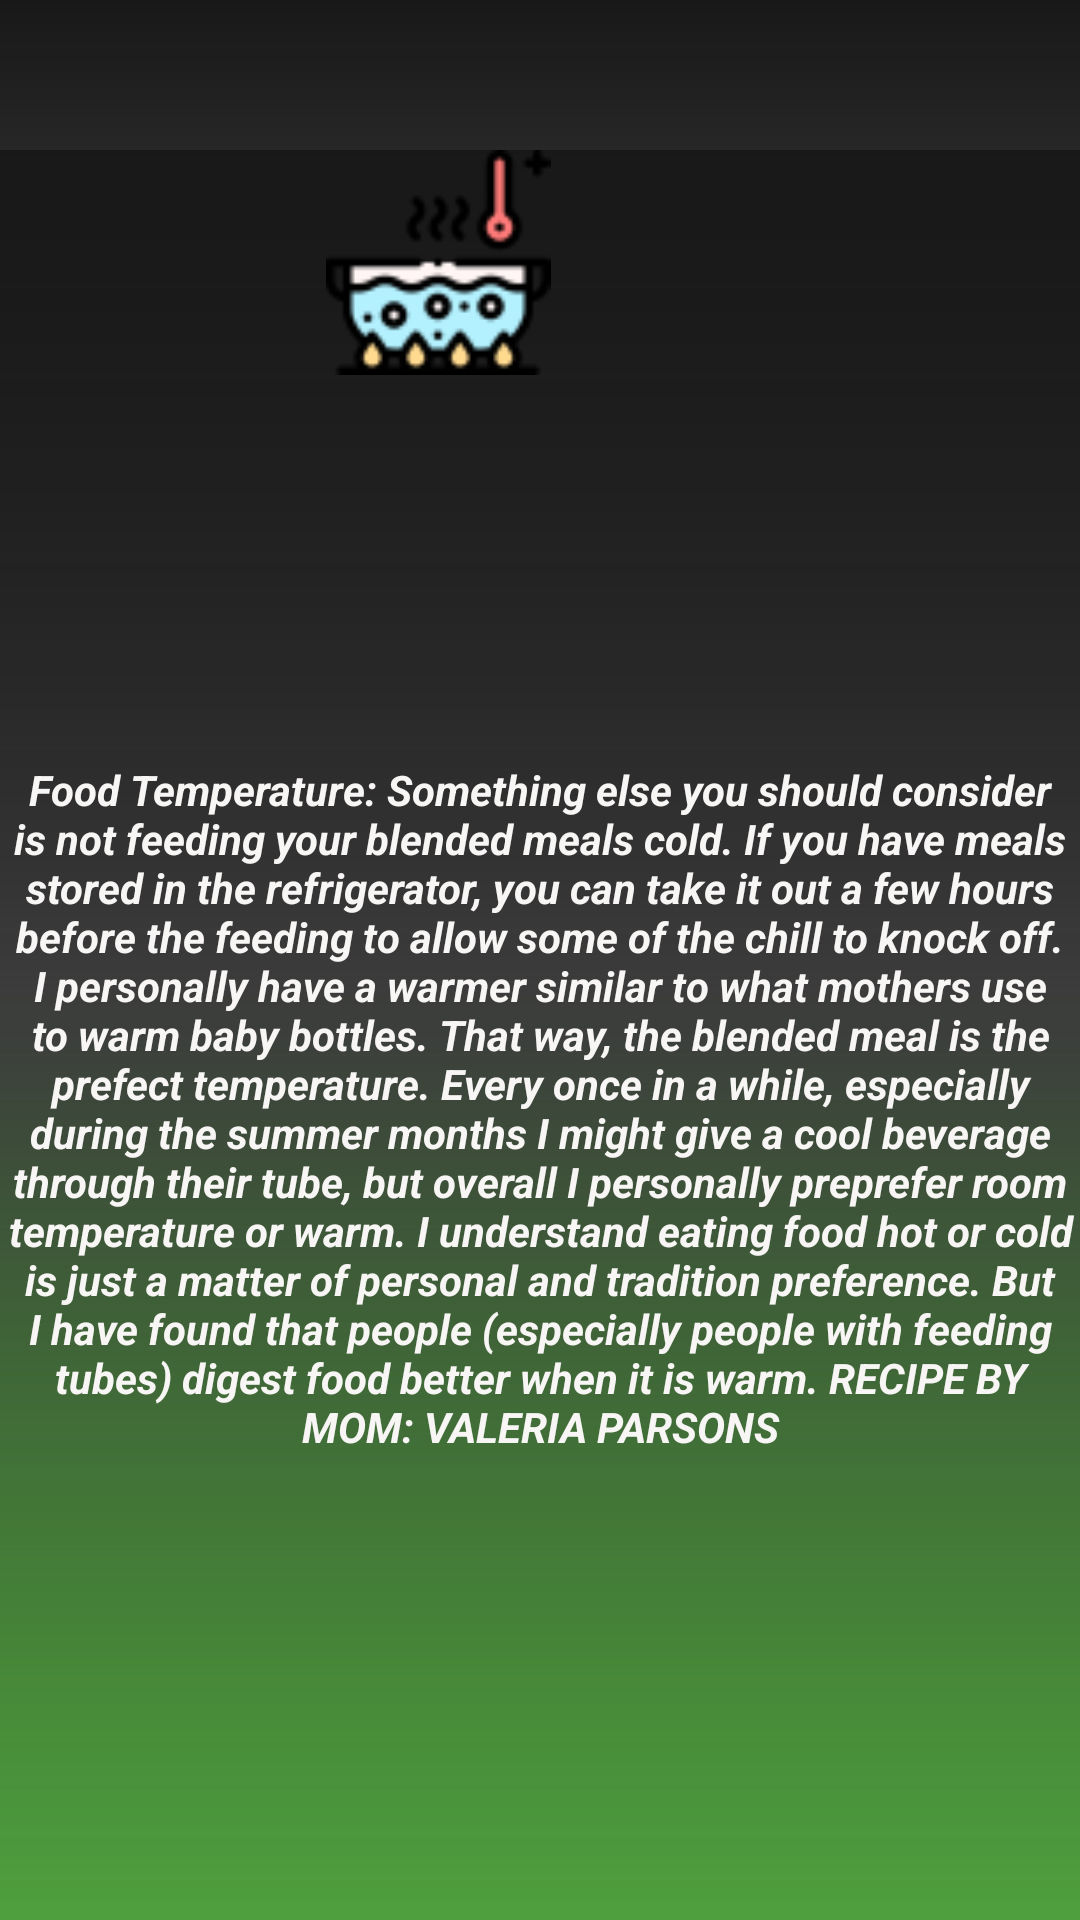

Locate icon controls on the screen. Image size 1080×1920, boxes as (x1, y1, x2, y2).
boil: (326, 150, 551, 375)
